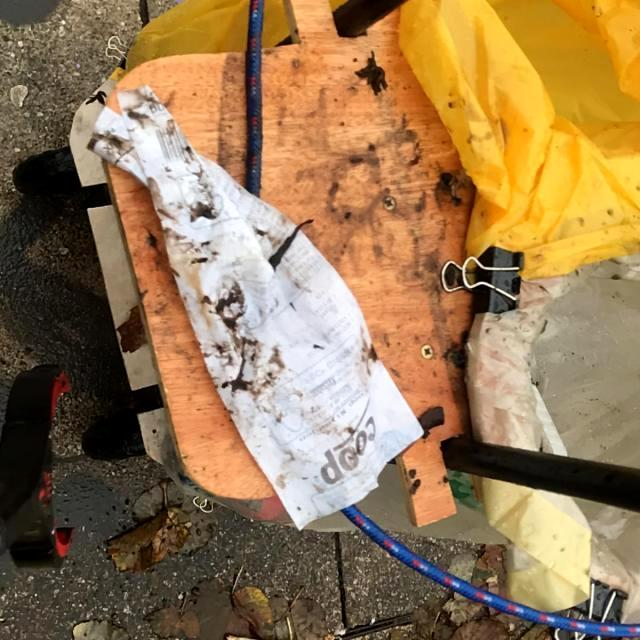Paper: (80, 83, 433, 537)
